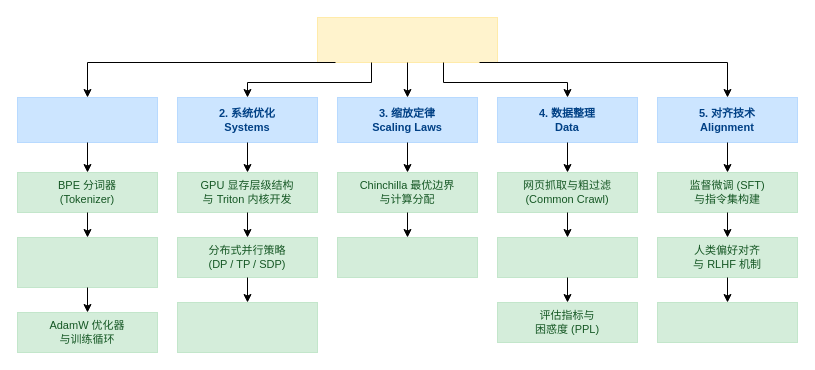
The diagram is 815 pixels wide and 370 high, and some of its shapes have lost their labels. The shapes that lost their labels are listed below. From the top down, each one's centre as x and y in pixels, then its label:
(x=407, y=39): 大语言模型全流程 (LLM Full Pipeline)
(x=87, y=119): 1. 基础模块 Foundation
(x=87, y=262): Transformer 架构 (RMSNorm/RoPE/SwiGLU)
(x=407, y=257): Token = 20 * N 经验法则与外推
(x=567, y=257): 文档级精准去重 (MinHash / LSH)
(x=247, y=327): 推理加速技术 (Prefill/Dec/Speculative)
(x=727, y=322): DPO / GRPO 无 Critic 对齐算法
